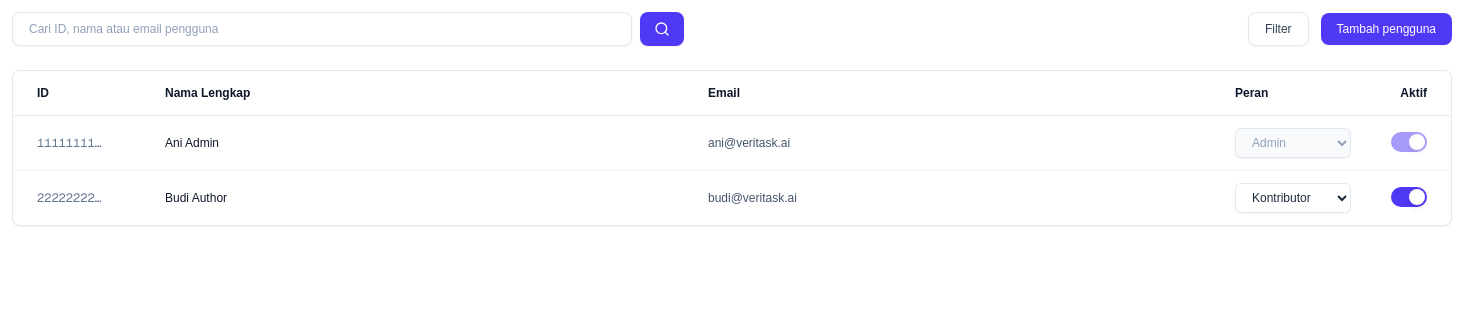
AdminMembersPage › rolls back the role and shows a message when the update fails
The width and height of the screenshot is (1464, 325).
Select "Viewer" in the dropdown named "Ubah peran Budi Author": point(1293, 198) [1235,183,1351,213]
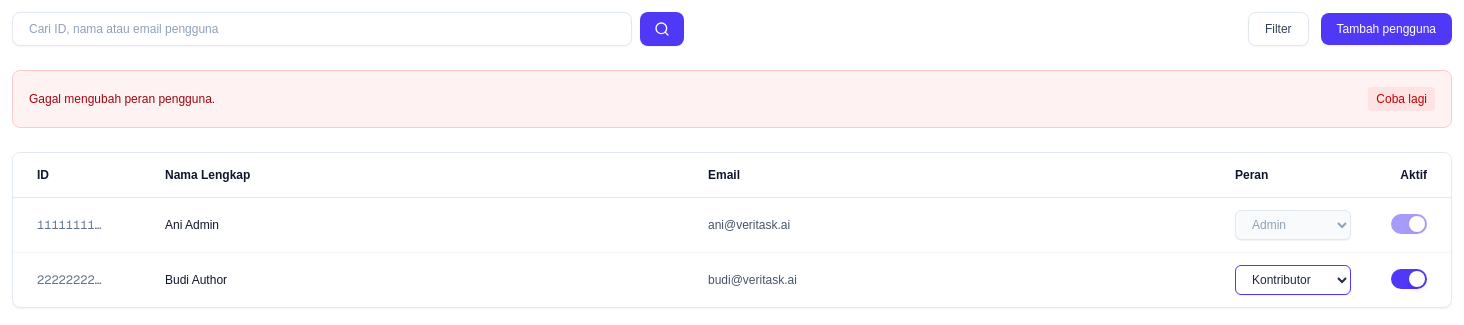
Expected: the message shows "Gagal mengubah peran pengguna.", [29,92,215,106]
